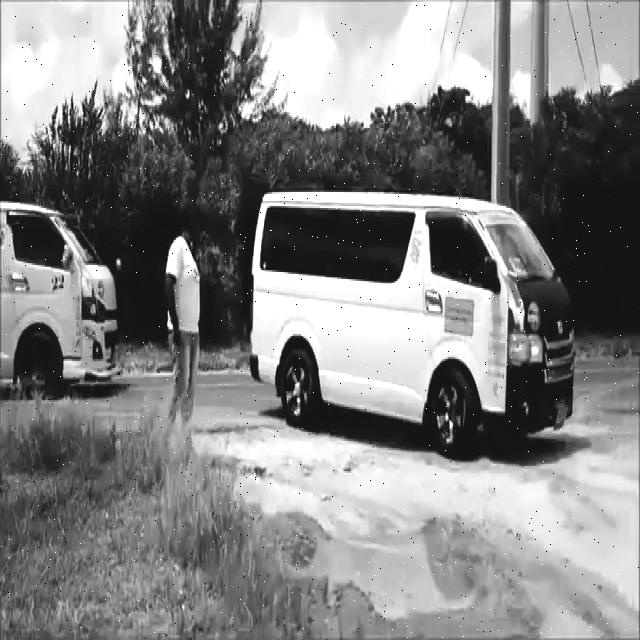Van: (254, 183, 582, 450)
